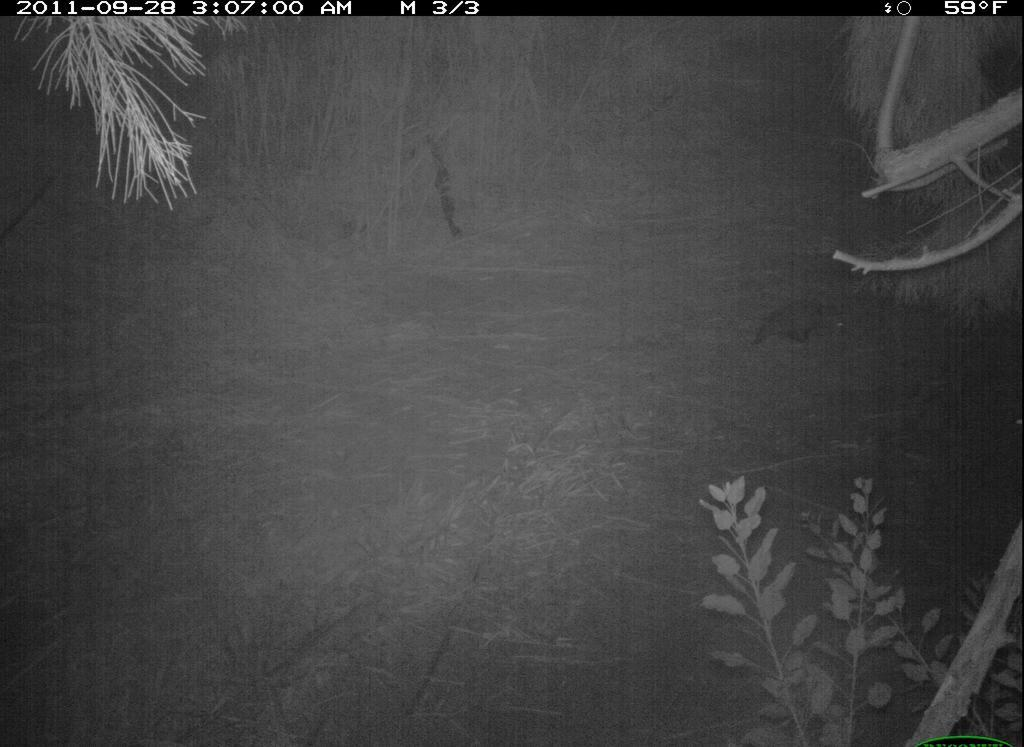opossum: (752, 289, 866, 356)
